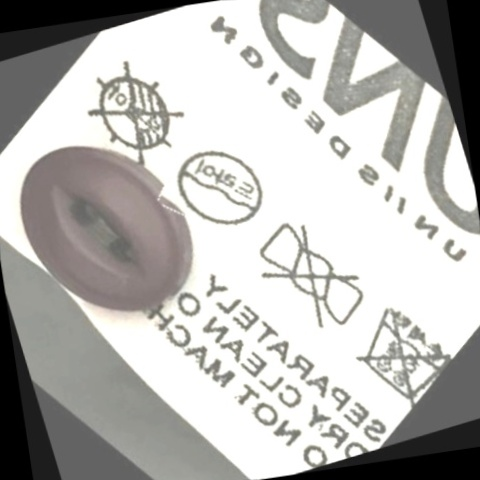DN_dry: (68, 45, 203, 182)
DN_wring: (235, 202, 387, 354)
dry_clean: (157, 126, 280, 251)
hand_wash: (334, 281, 465, 418)
